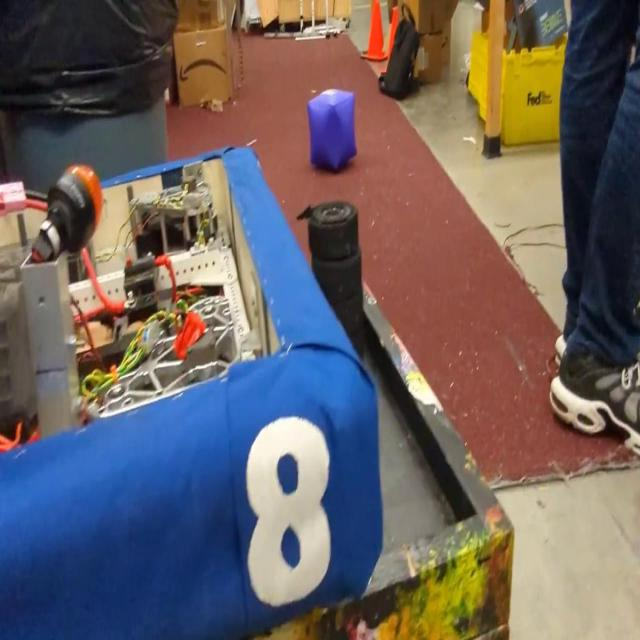frc_cube: (306, 86, 356, 174)
